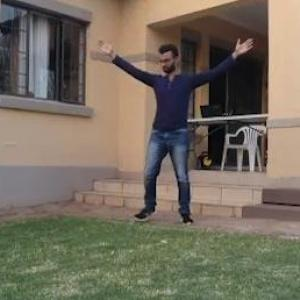takeoff: (95, 31, 263, 220)
